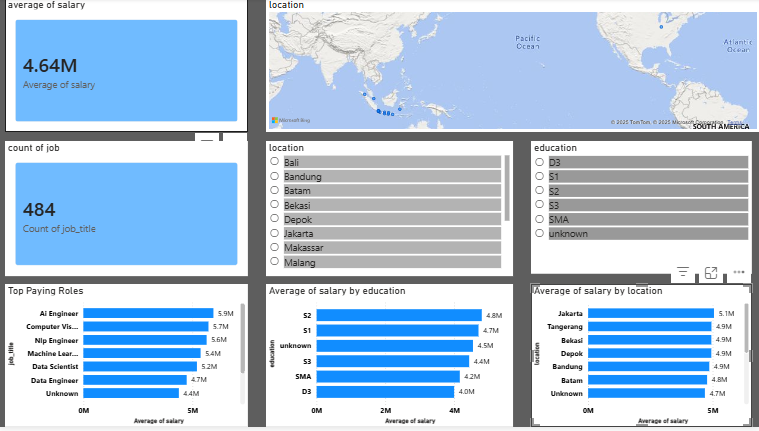

This screenshot's page, from the dashboard's own definition file:
{"tool":"powerbi","page":{"name":"Page 1","canvas":[1280,720],"ordinal":0},"visuals":[{"type":"cardVisual","title":"average of salary","fields":{"Data":["Avg(Indonesia_AI_Data_Salary_Dataset1_cleaning.salary)"]},"box":[11.8,0,408.2,225.1],"z":0},{"type":"cardVisual","title":"count of job","fields":{"Data":["CountNonNull(Indonesia_AI_Data_Salary_Dataset1_cleaning.job_title)"]},"box":[11.8,240.2,408.2,226.8],"z":1000},{"type":"clusteredBarChart","title":"Top Paying Roles","fields":{"Category":["Indonesia_AI_Data_Salary_Dataset1_cleaning.job_title"],"Y":["Avg(Indonesia_AI_Data_Salary_Dataset1_cleaning.salary)"]},"box":[11.8,480.4,408.2,240.2],"z":2000},{"type":"listSlicer","fields":{"Values":["Indonesia_AI_Data_Salary_Dataset1_cleaning.location"]},"box":[450.2,240.2,414.9,226.8],"z":3000},{"type":"listSlicer","fields":{"Values":["Indonesia_AI_Data_Salary_Dataset1_cleaning.education"]},"box":[895.3,240.2,371.2,223.4],"z":4000},{"type":"map","fields":{"Category":["Indonesia_AI_Data_Salary_Dataset1_cleaning.location"]},"box":[450.2,0,829.8,225.1],"z":5000},{"type":"clusteredBarChart","fields":{"Category":["Indonesia_AI_Data_Salary_Dataset1_cleaning.education"],"Y":["Avg(Indonesia_AI_Data_Salary_Dataset1_cleaning.salary)"]},"box":[450.2,480.4,414.9,240.2],"z":5001},{"type":"clusteredBarChart","fields":{"Category":["Indonesia_AI_Data_Salary_Dataset1_cleaning.location"],"Y":["Avg(Indonesia_AI_Data_Salary_Dataset1_cleaning.salary)"]},"box":[895,480,371,240],"z":5002}]}

Visuals, with their boxes in screenshot pixels (x1, y1, x2, y2), scaled from the page's 1280x720 canvas onto the 759x431 screenshot:
"average of salary" cardVisual: pyautogui.locateOnScreen(7, 0, 249, 135)
"count of job" cardVisual: pyautogui.locateOnScreen(7, 144, 249, 280)
"Top Paying Roles" clusteredBarChart: pyautogui.locateOnScreen(7, 288, 249, 430)
listSlicer - Indonesia_AI_Data_Salary_Dataset1_cleaning.location: pyautogui.locateOnScreen(267, 144, 513, 280)
listSlicer - Indonesia_AI_Data_Salary_Dataset1_cleaning.education: pyautogui.locateOnScreen(531, 144, 751, 278)
map - Indonesia_AI_Data_Salary_Dataset1_cleaning.location: pyautogui.locateOnScreen(267, 0, 758, 135)
clusteredBarChart - Indonesia_AI_Data_Salary_Dataset1_cleaning.education x Avg(Indonesia_AI_Data_Salary_Dataset1_cleaning.salary): pyautogui.locateOnScreen(267, 288, 513, 430)
clusteredBarChart - Indonesia_AI_Data_Salary_Dataset1_cleaning.location x Avg(Indonesia_AI_Data_Salary_Dataset1_cleaning.salary): pyautogui.locateOnScreen(531, 287, 751, 430)
